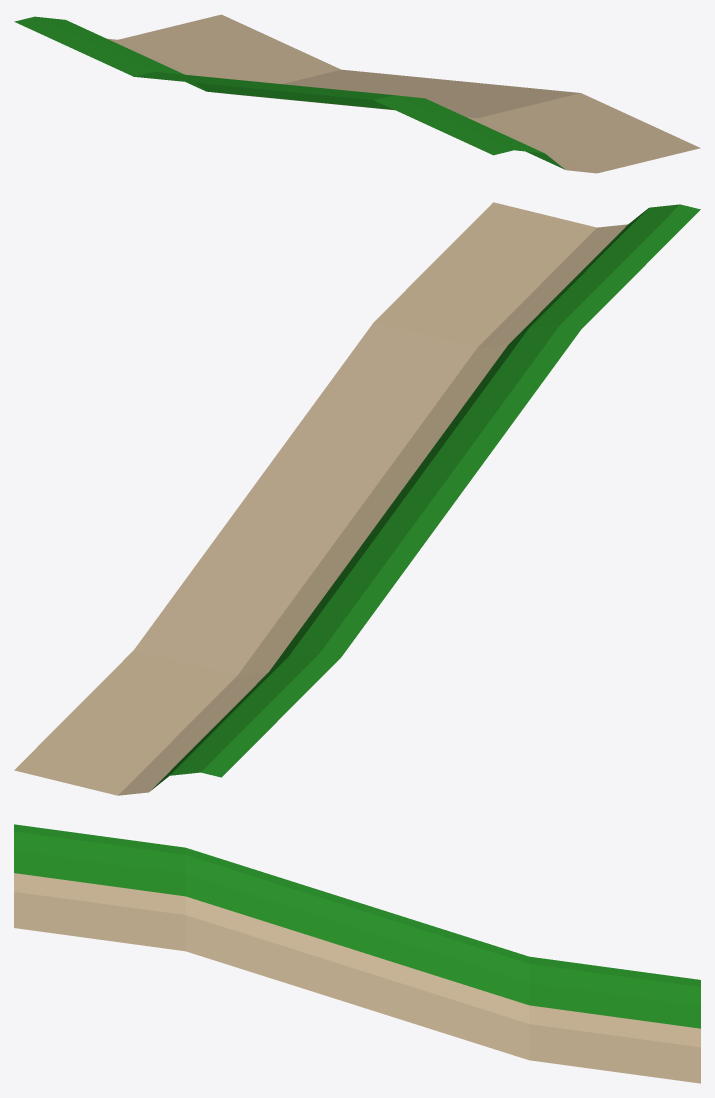
File: Hilly_Terrain_Path_Hill_Gentle_Plain_Side.obj
3 views of the same model, one above another, from view 1: azimuth 30°, elevation 25°; view 2: azimuth 150°, elevation 25°; view 3: azimuth 270°, elevation 25° (orthographic). The views are drawn at different scales.
Visible parts, largest first — view 1: object1; view 2: object1; view 3: object1.
Boxes of the visible parts, x1,y1,x2,y2 form: object1: (14, 14, 700, 173); object1: (14, 202, 700, 795); object1: (14, 824, 700, 1083).
Bounding box in the file's own units: 1 × 1.2 × 4.
